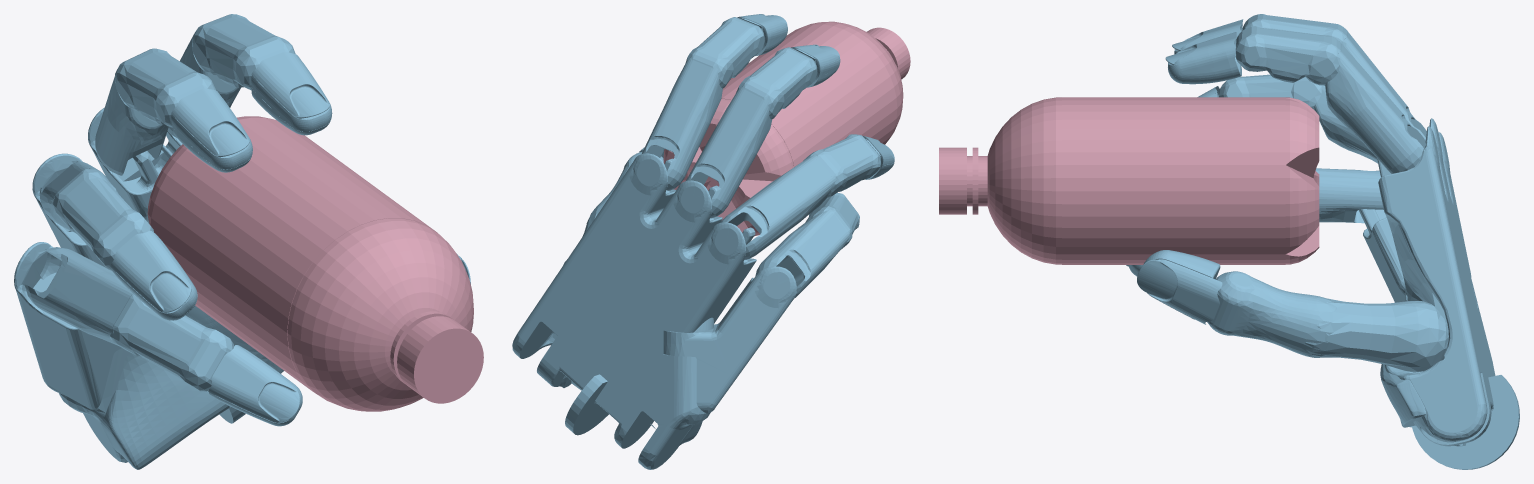
3 renders of one model, left to right at view 1: azimuth 30°, elevation 25°; view 2: azimuth 150°, elevation 25°; view 3: azimuth 270°, elevation 25°, orthographic. The views are drawn at different scales.
Visible parts, largest first — view 1: world, water_bottle.stl; view 2: world, water_bottle.stl; view 3: world, water_bottle.stl.
Boxes of the visible parts, left/top/right/bottom form: world: left=14, top=14, right=470, bottom=469; water_bottle.stl: left=147, top=116, right=483, bottom=411; world: left=512, top=14, right=894, bottom=469; water_bottle.stl: left=663, top=21, right=910, bottom=236; world: left=1126, top=14, right=1519, bottom=469; water_bottle.stl: left=939, top=97, right=1319, bottom=264.
Bounding box in the file's own units: 0.1244 × 0.1683 × 0.2086.
